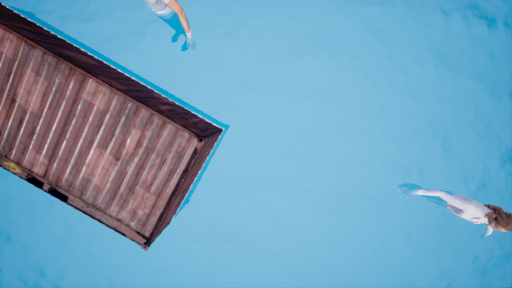person: (398, 184, 512, 252)
